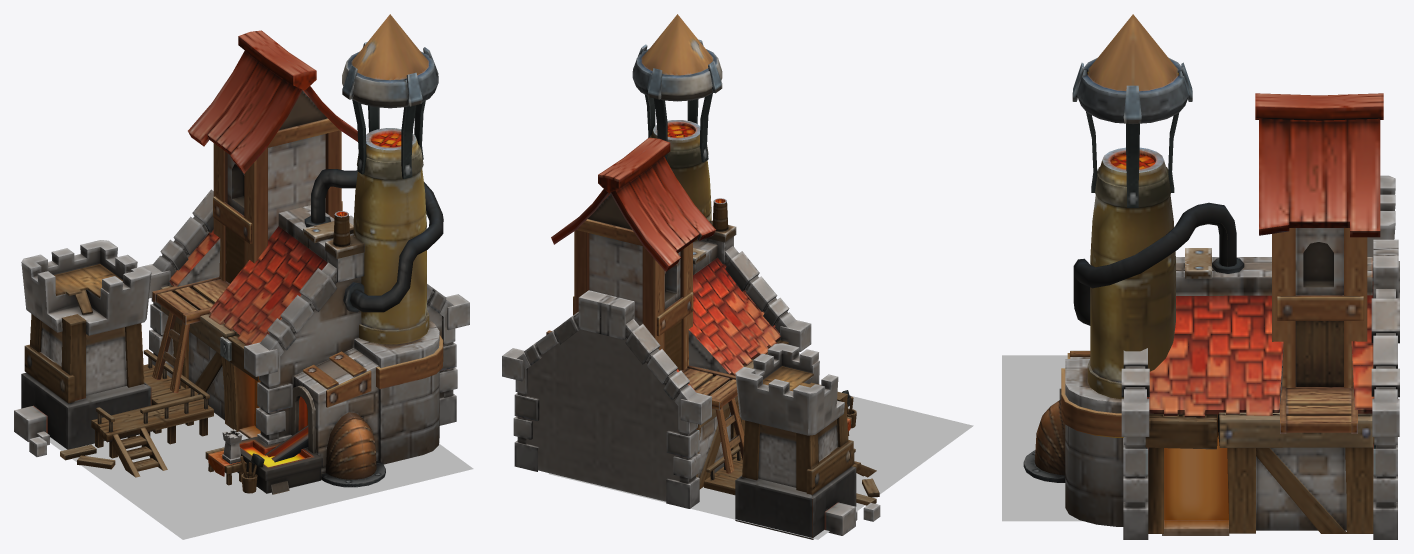
File: C_DirtyWorkshop_LV2.fbx
3 views of the same model, side by side, from view 1: azimuth 30°, elevation 25°; view 2: azimuth 150°, elevation 25°; view 3: azimuth 270°, elevation 25° (orthographic). The views are drawn at different scales.
Parts seen in each view (by area): view 1: Dirty_Workshop_LV02_0_mesh, Dirty_Workshop_LV02_1_mesh; view 2: Dirty_Workshop_LV02_0_mesh, Dirty_Workshop_LV02_1_mesh; view 3: Dirty_Workshop_LV02_0_mesh, Dirty_Workshop_LV02_1_mesh.
Part boxes in pixels (left/top/right/bottom): Dirty_Workshop_LV02_0_mesh: left=14, top=14, right=469, bottom=494; Dirty_Workshop_LV02_1_mesh: left=50, top=413, right=473, bottom=539; Dirty_Workshop_LV02_0_mesh: left=502, top=14, right=880, bottom=539; Dirty_Workshop_LV02_1_mesh: left=548, top=396, right=973, bottom=539; Dirty_Workshop_LV02_0_mesh: left=1023, top=14, right=1399, bottom=539; Dirty_Workshop_LV02_1_mesh: left=1002, top=355, right=1082, bottom=521.
Size of the model in its own units: 149 by 167 by 122.
